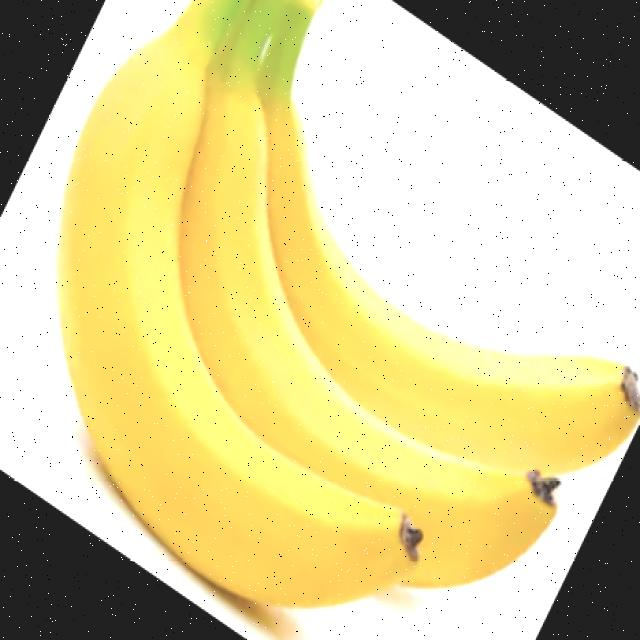god quality banana: (57, 2, 639, 607)
